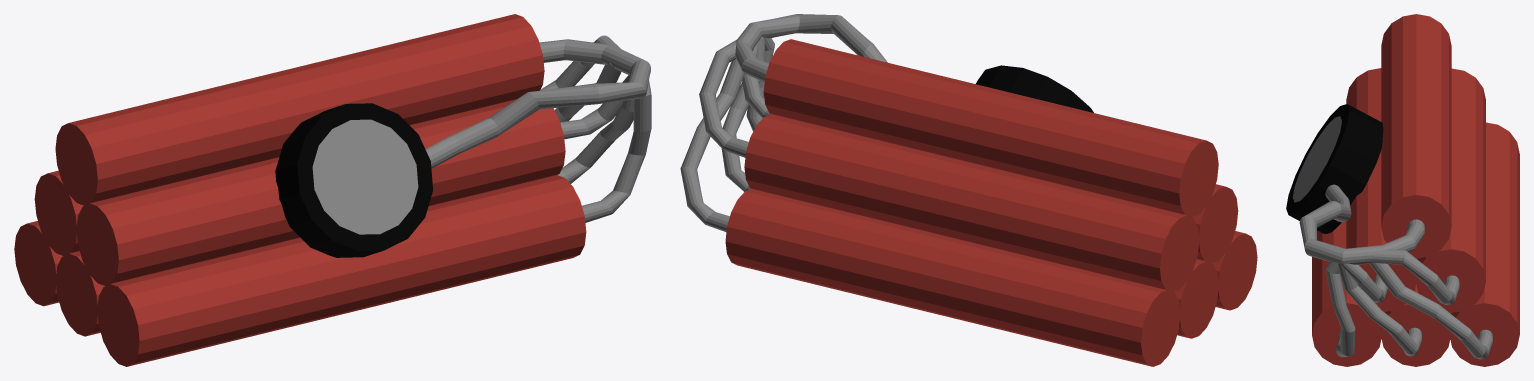
The model's file is TNT.fbx.
3 renders of one model, left to right at view 1: azimuth 30°, elevation 25°; view 2: azimuth 150°, elevation 25°; view 3: azimuth 270°, elevation 25°, orthographic. The views are drawn at different scales.
Parts seen in each view (by area): view 1: Cylinder.068; view 2: Cylinder.068; view 3: Cylinder.068.
Part boxes in pixels (x1=…): Cylinder.068: x1=14, y1=14, x2=651, y2=366; Cylinder.068: x1=680, y1=14, x2=1257, y2=366; Cylinder.068: x1=1286, y1=14, x2=1519, y2=366.
Bounding box in the file's own units: 128 × 47.91 × 58.97.
